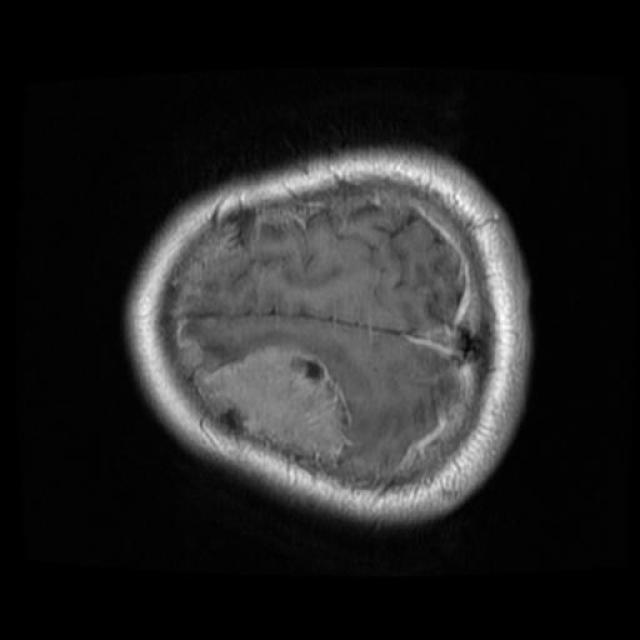Meningioma: (196, 343, 351, 461)
